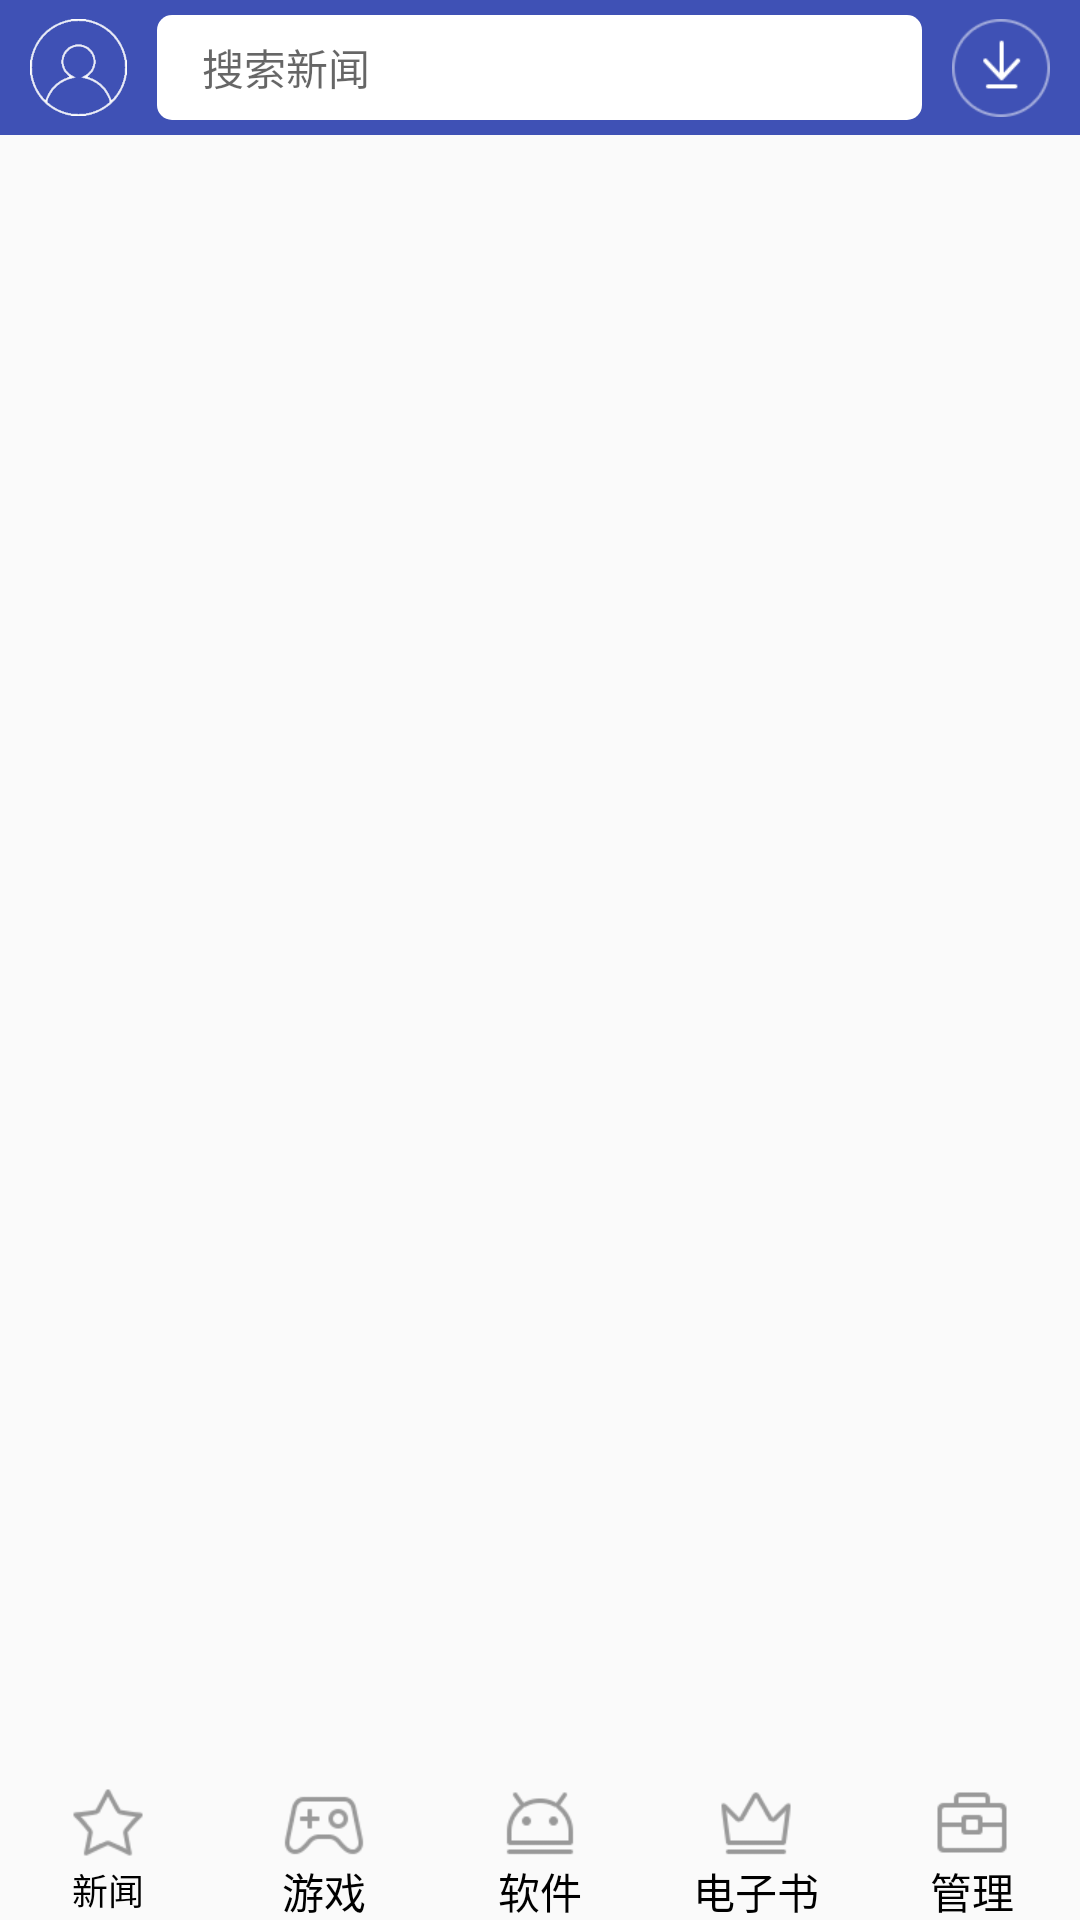

Icons on this 1080px x 1920px Android screen, each with the point to tap as point (x, y):
person center: point (78, 67)
topbar download: point (1001, 68)
